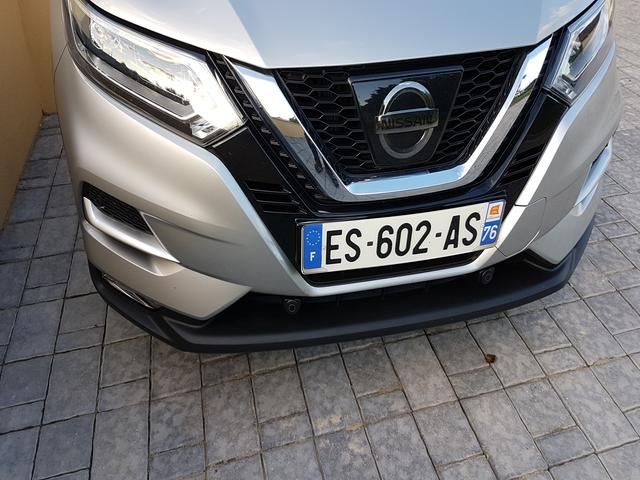Quashquai: (283, 190, 517, 283)
